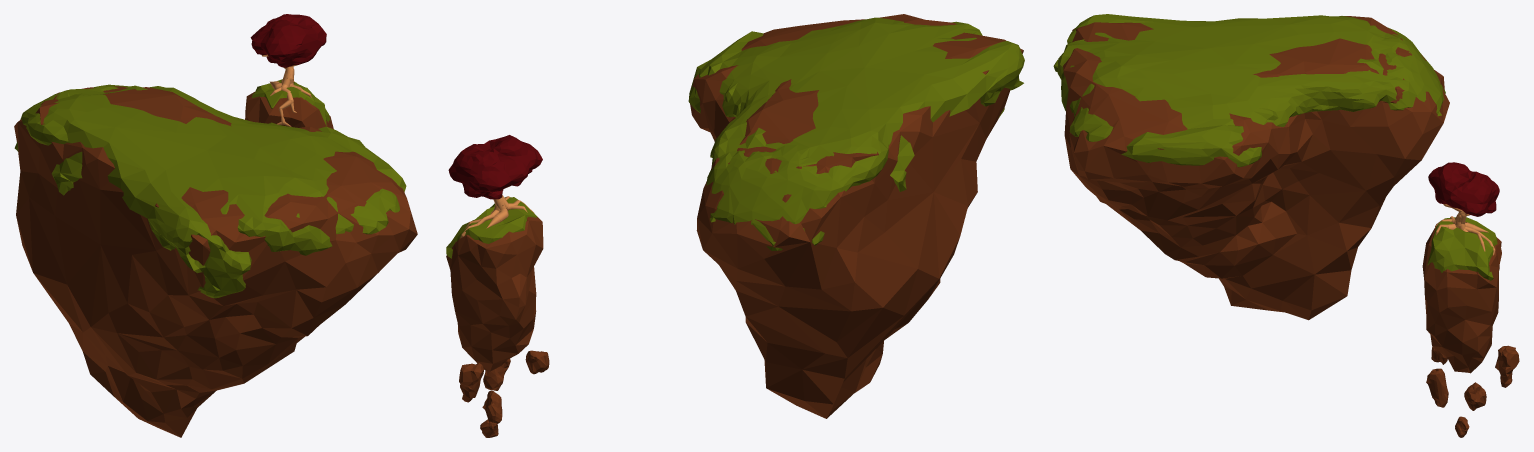
The model's file is Due_Isola5.fbx.
3 views of the same model, side by side, from view 1: azimuth 30°, elevation 25°; view 2: azimuth 150°, elevation 25°; view 3: azimuth 270°, elevation 25° (orthographic). The views are drawn at different scales.
Visible parts, largest first — view 1: Plane.033, Plane.032, Mball.013, Sphere.170, Sphere.169, NurbsPath.008; view 2: Plane.033, Plane.032, Sphere.170, Mball.013, Sphere.169, Sphere.164, NurbsPath.008; view 3: Plane.033, Plane.032, Sphere.170, Sphere.169, Mball.013, NurbsPath.008, Sphere.164, Sphere.168, Sphere.165.
Boxes of the visible parts, bbox=[...] form: Plane.033: bbox=[14, 86, 417, 437]; Plane.032: bbox=[14, 84, 406, 298]; Mball.013: bbox=[250, 14, 326, 67]; Sphere.170: bbox=[245, 91, 333, 129]; Sphere.169: bbox=[252, 79, 330, 125]; NurbsPath.008: bbox=[261, 54, 311, 126]; Plane.033: bbox=[690, 14, 1023, 418]; Plane.032: bbox=[688, 17, 1024, 250]; Sphere.170: bbox=[446, 216, 543, 371]; Mball.013: bbox=[448, 135, 542, 199]; Sphere.169: bbox=[446, 197, 537, 258]; Sphere.164: bbox=[459, 363, 483, 402]; NurbsPath.008: bbox=[460, 186, 534, 238]; Plane.033: bbox=[1063, 16, 1449, 320]; Plane.032: bbox=[1053, 14, 1445, 167]; Sphere.170: bbox=[1422, 226, 1501, 373]; Sphere.169: bbox=[1427, 217, 1497, 280]; Mball.013: bbox=[1428, 162, 1499, 216]; NurbsPath.008: bbox=[1435, 204, 1495, 255]; Sphere.164: bbox=[1495, 345, 1519, 387]; Sphere.168: bbox=[1426, 368, 1448, 407]; Sphere.165: bbox=[1464, 382, 1486, 410].
Size of the model in its own units: 342 by 293 by 427.
